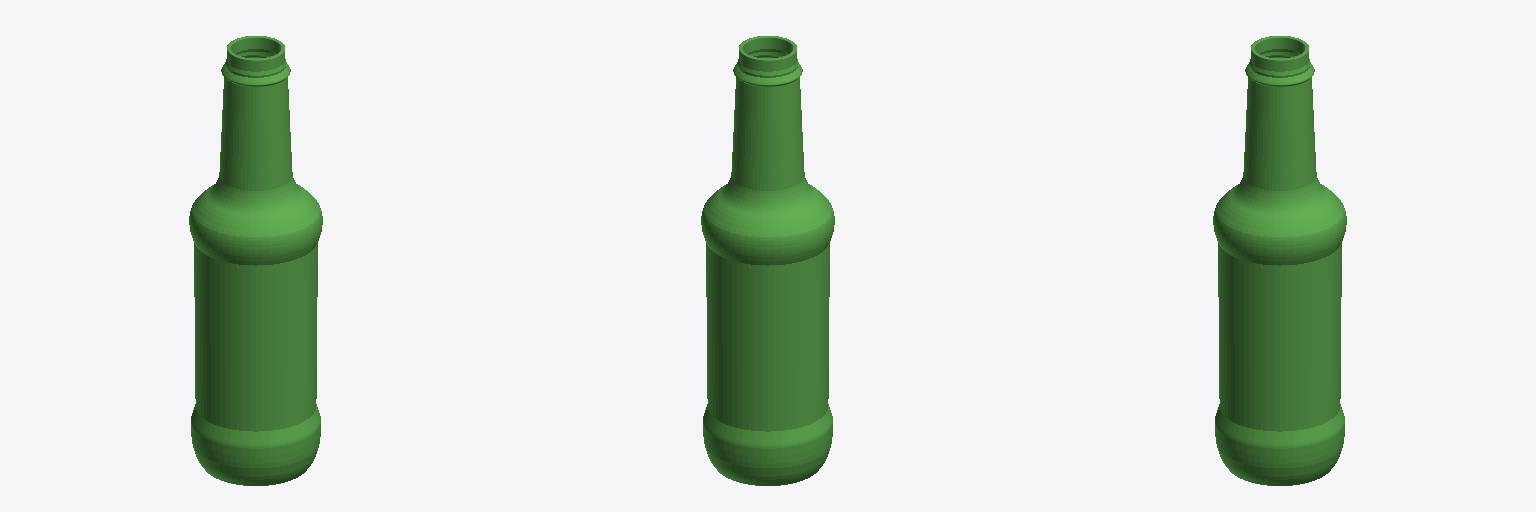
File: bottle1.obj
3 renders of one model, left to right at view 1: azimuth 30°, elevation 25°; view 2: azimuth 150°, elevation 25°; view 3: azimuth 270°, elevation 25°, orthographic.
Parts seen in each view (by area): view 1: bottle:Mesh; view 2: bottle:Mesh; view 3: bottle:Mesh.
Boxes of the visible parts, x1,y1,x2,y2 form: bottle:Mesh: [189, 36, 322, 485]; bottle:Mesh: [701, 36, 834, 485]; bottle:Mesh: [1213, 36, 1346, 485].
Size of the model in its own units: 20.51 by 70.54 by 20.51.